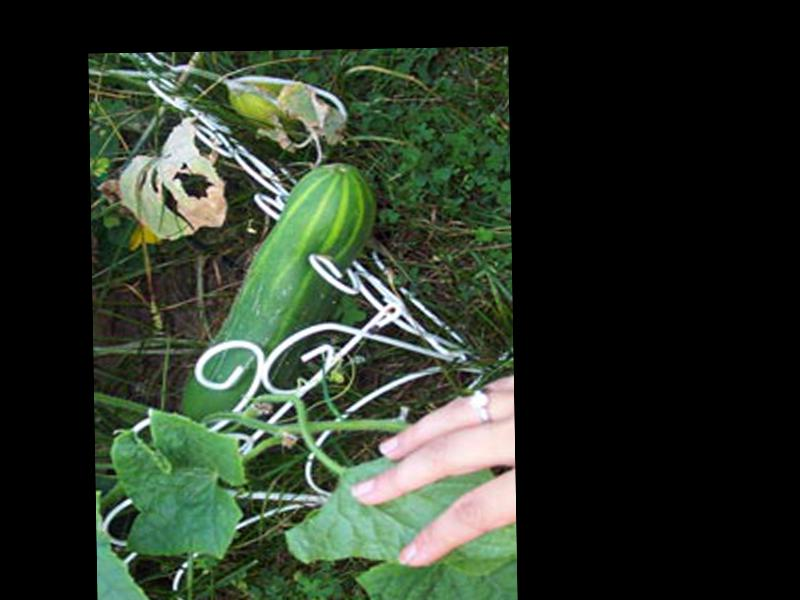Cucumber: (176, 162, 378, 425)
